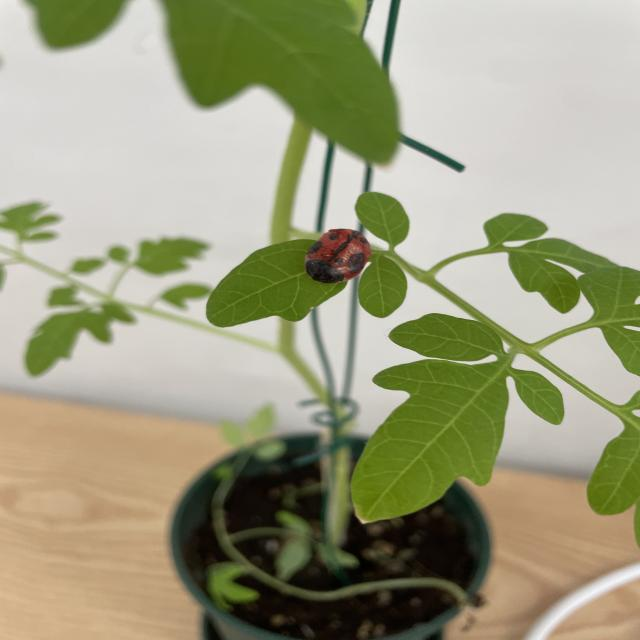bug: (289, 211, 383, 294)
